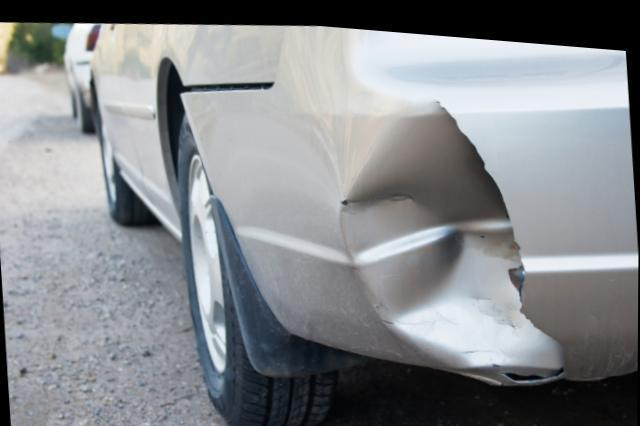crack: (433, 94, 528, 303), (501, 357, 566, 375)
dent: (342, 96, 535, 357)
dislocated part: (181, 33, 287, 94)
